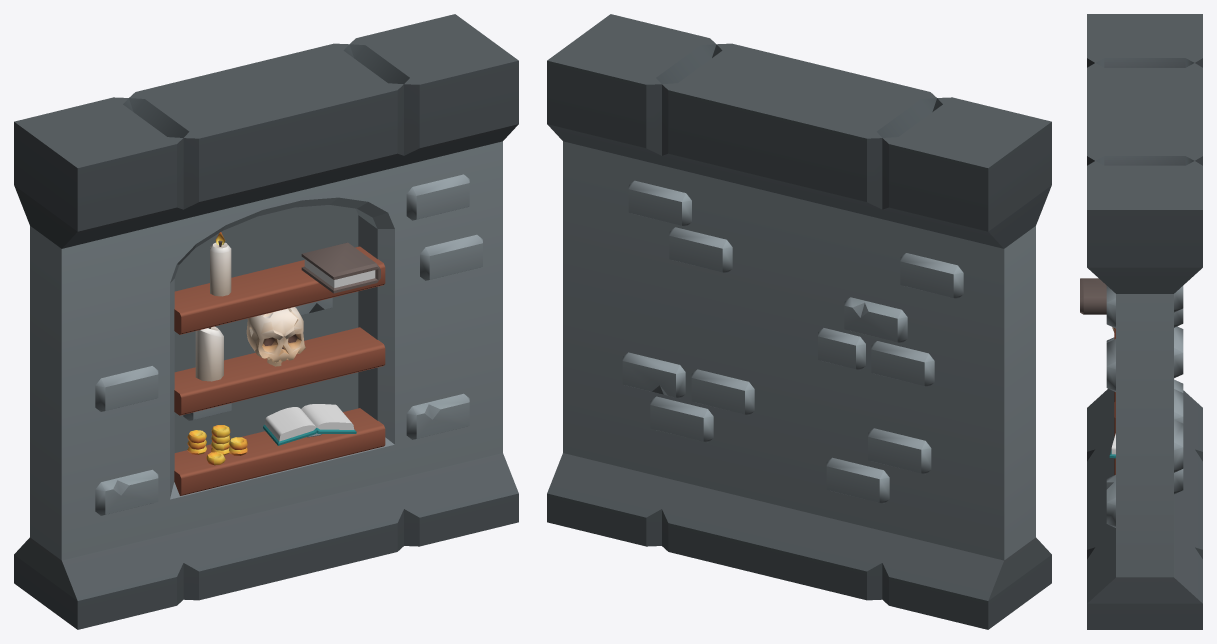
Rendered from wall_crypt_B.glb.
3 renders of one model, left to right at view 1: azimuth 30°, elevation 25°; view 2: azimuth 150°, elevation 25°; view 3: azimuth 270°, elevation 25°, orthographic. The views are drawn at different scales.
Visible parts, largest first — view 1: Item; view 2: Item; view 3: Item.
Part boxes in pixels (x1,y1,x2,y2): Item: (14,14,518,629); Item: (547,14,1051,629); Item: (1080,14,1202,629).
Bounding box in the file's own units: 4 × 4 × 1.06.
Materials: 4 (4 with a texture image).
